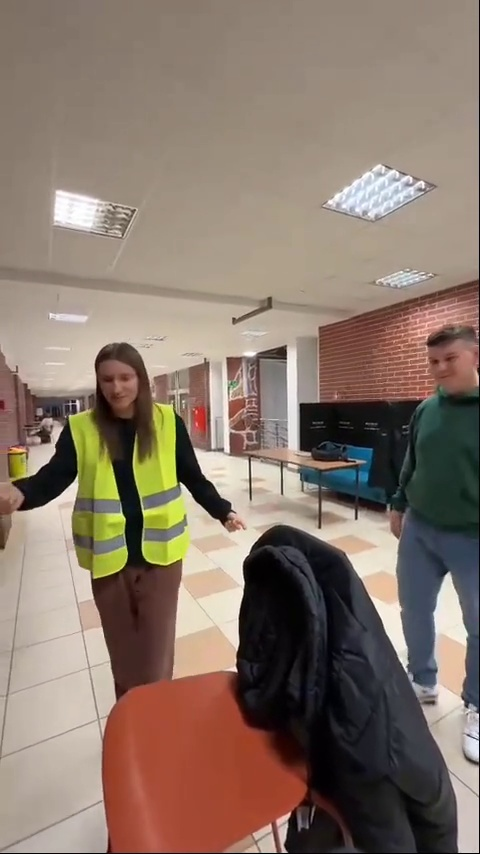no vest: (376, 321, 480, 768)
vest: (61, 337, 215, 704)
